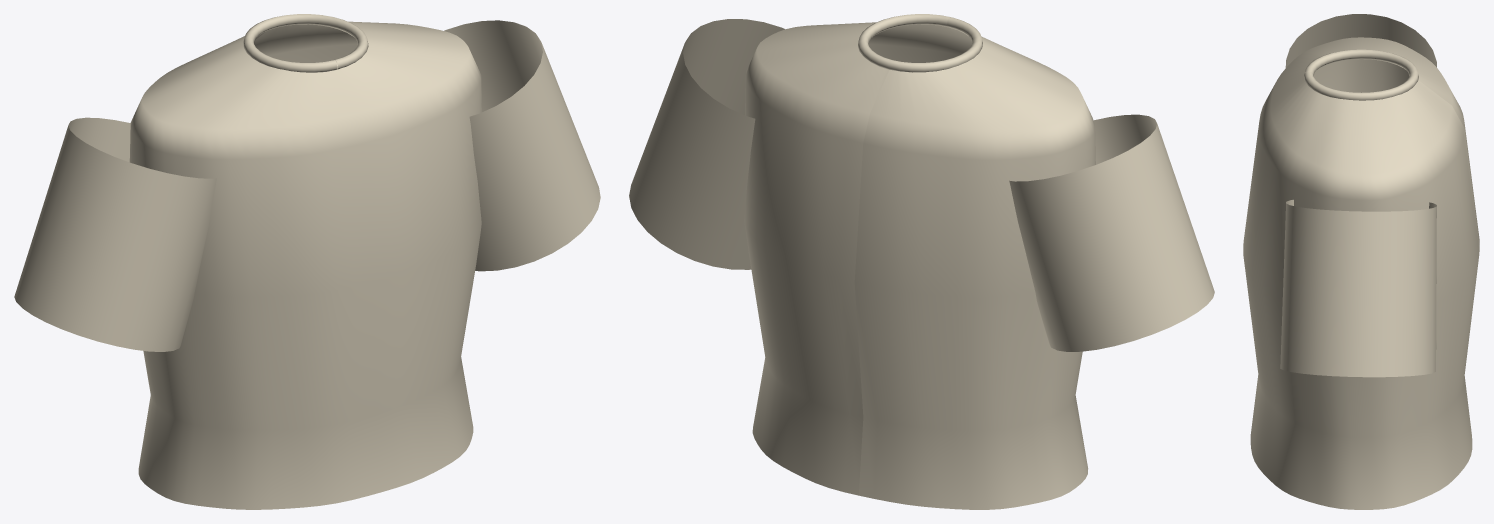
Rendered from le-coton-essentiel-homme.glb.
3 views of the same model, side by side, from view 1: azimuth 30°, elevation 25°; view 2: azimuth 150°, elevation 25°; view 3: azimuth 270°, elevation 25° (orthographic). The views are drawn at different scales.
Visible parts, largest first — view 1: edit-03, short-sleeve (×2); view 2: edit-03, short-sleeve (×2); view 3: edit-03, short-sleeve (×2).
Part boxes in pixels (x1,y1,x2,y2): edit-03: (129, 14, 481, 509); short-sleeve (×2): (14, 20, 600, 351); edit-03: (744, 14, 1095, 509); short-sleeve (×2): (629, 19, 1214, 351); edit-03: (1243, 37, 1479, 509); short-sleeve (×2): (1280, 14, 1436, 377).
Bounding box in the file's own units: 0.7063 × 0.4965 × 0.287.
